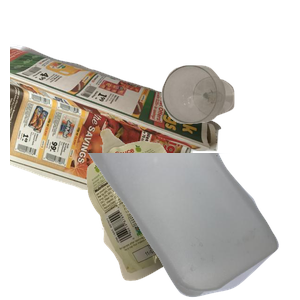glass: (159, 63, 300, 179)
paper: (10, 42, 224, 222)
plastic: (84, 153, 300, 300)
trash: (84, 126, 291, 300)
